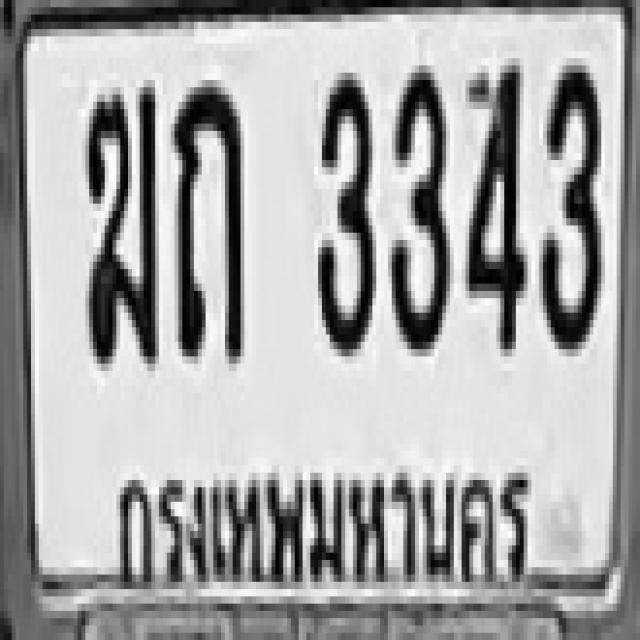15KhorRaKhang: (82, 80, 160, 369)
3: (539, 58, 601, 349), (317, 69, 375, 353), (391, 66, 449, 350)
31ThorThung: (172, 75, 247, 368)
4: (464, 63, 526, 354)
Bangkok: (102, 450, 560, 609)
